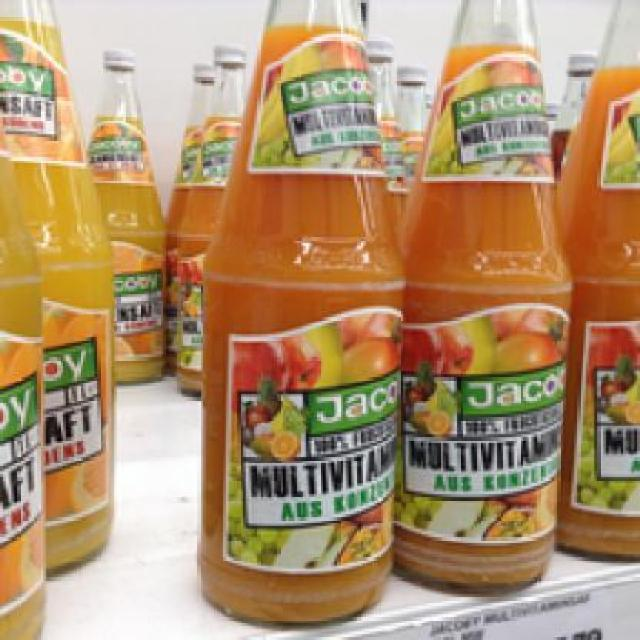Juice: (196, 0, 410, 620), (390, 0, 572, 592), (0, 0, 109, 566), (83, 43, 163, 380)
